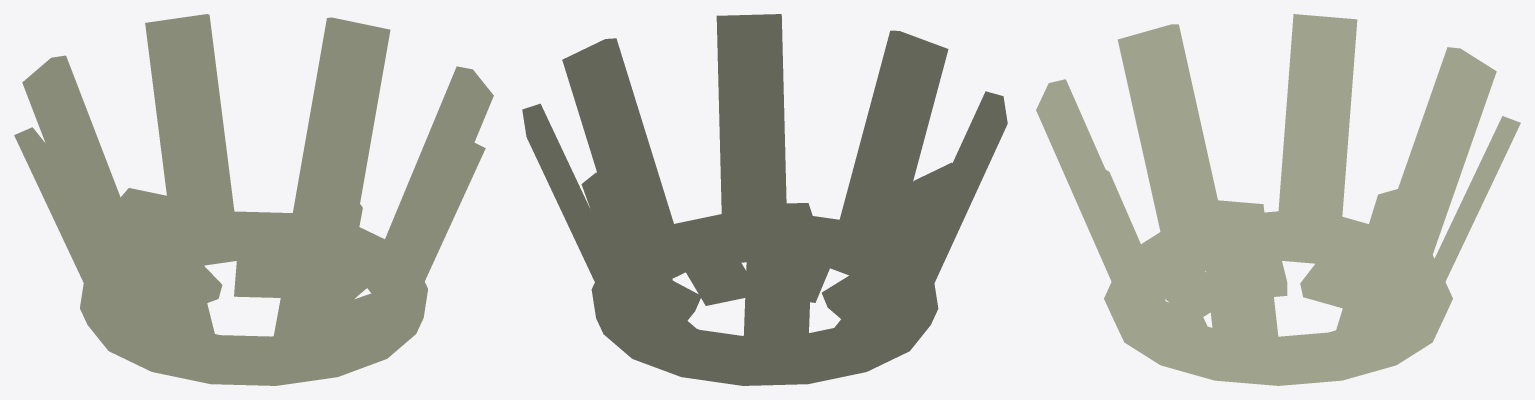
The model's file is cog.dae.
The picture shows the model from 3 angles, left to right: view 1: azimuth 30°, elevation 25°; view 2: azimuth 150°, elevation 25°; view 3: azimuth 270°, elevation 25°; orthographic projection.
Parts seen in each view (by area): view 1: torus1-0; view 2: torus1-0; view 3: torus1-0.
Boxes of the visible parts, x1,y1,x2,y2 form: torus1-0: [14, 14, 493, 385]; torus1-0: [522, 14, 1007, 385]; torus1-0: [1036, 14, 1520, 385].
Bounding box in the file's own units: 4.62 × 2.34 × 4.62.
